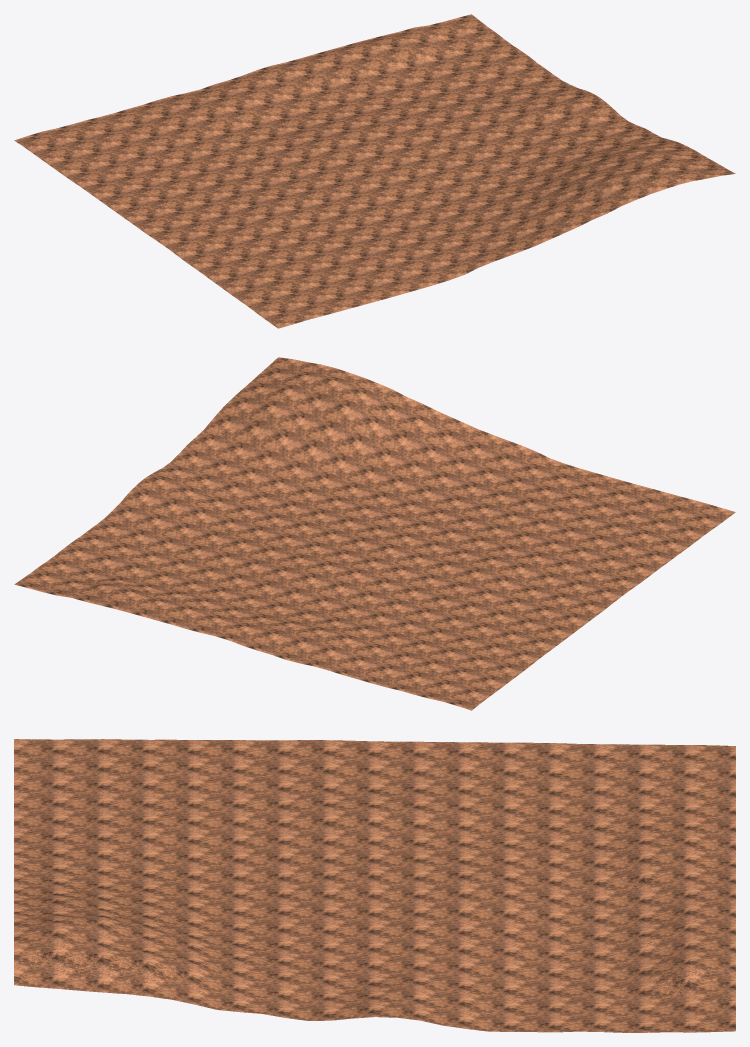
File: terrain_00_15.dae
3 views of the same model, one above another, from view 1: azimuth 30°, elevation 25°; view 2: azimuth 150°, elevation 25°; view 3: azimuth 270°, elevation 25° (orthographic). The views are drawn at different scales.
Parts seen in each view (by area): view 1: terrain_00_15-node; view 2: terrain_00_15-node; view 3: terrain_00_15-node.
Boxes of the visible parts, x1,y1,x2,y2 form: terrain_00_15-node: (14,14,735,328); terrain_00_15-node: (14,357,735,710); terrain_00_15-node: (14,739,735,1032).
Size of the model in its own units: 128 by 128 by 14.26.
Materials: 1 (1 with a texture image).
